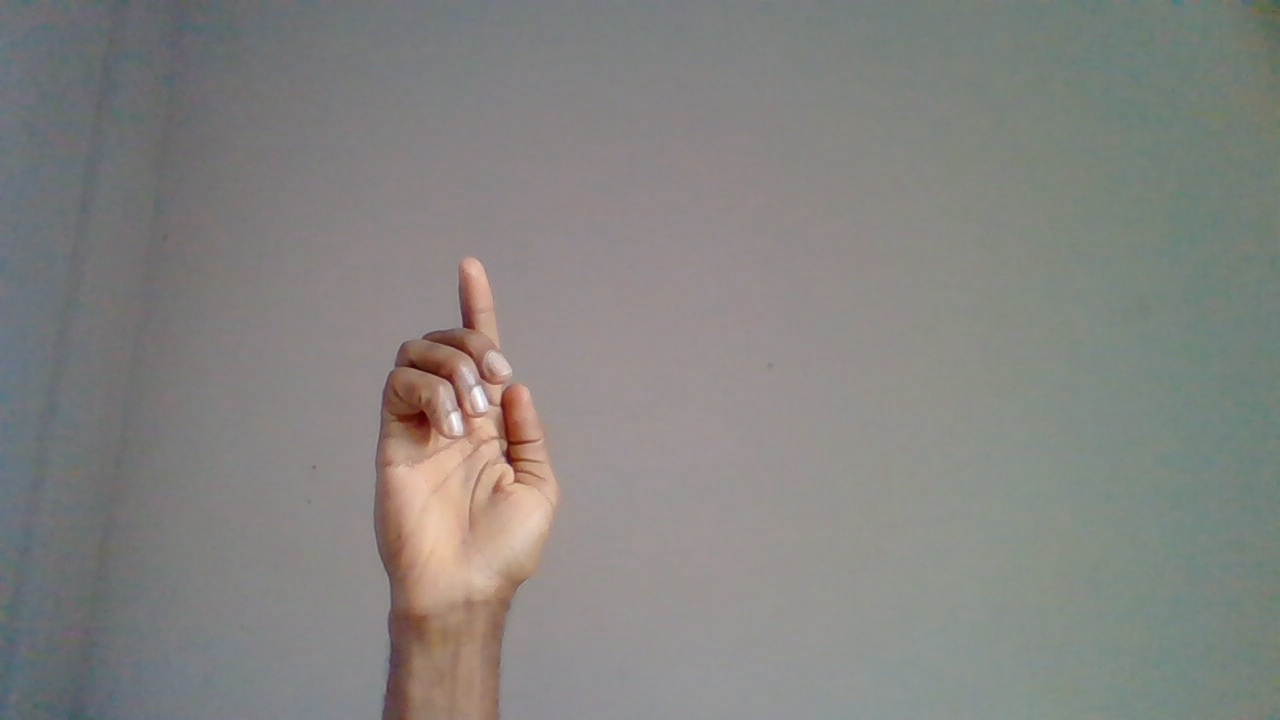qe: (373, 258, 566, 707)
